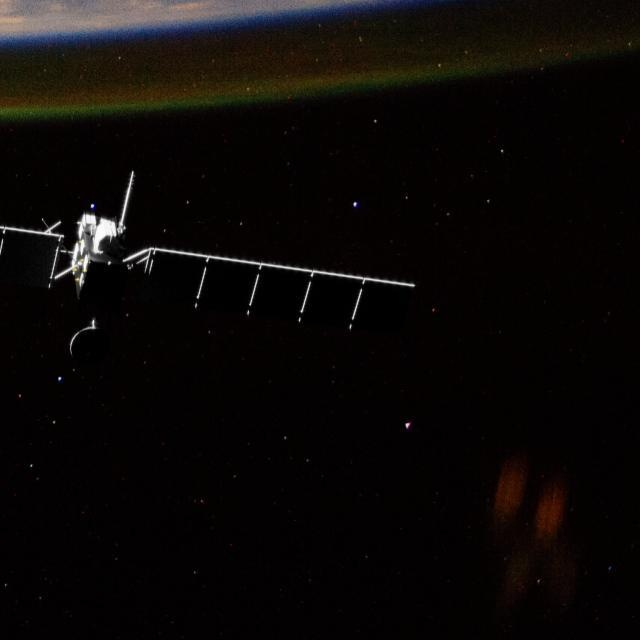medium_debris: (0, 180, 445, 368)
